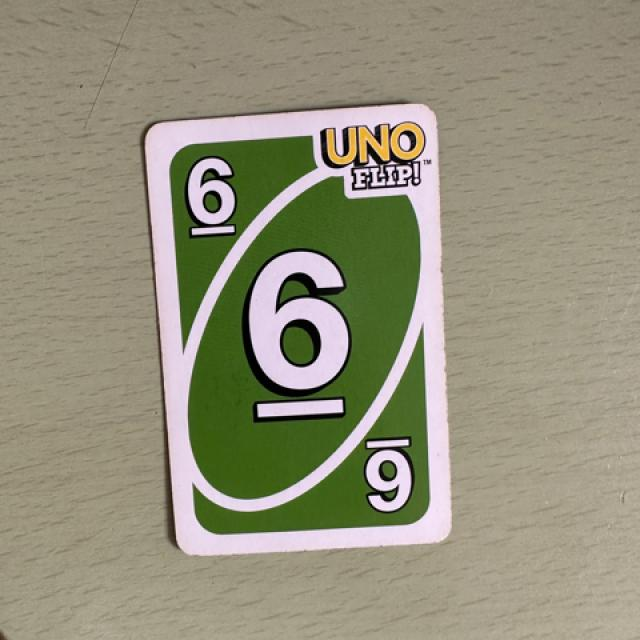lgreen-6: (162, 140, 258, 251)
